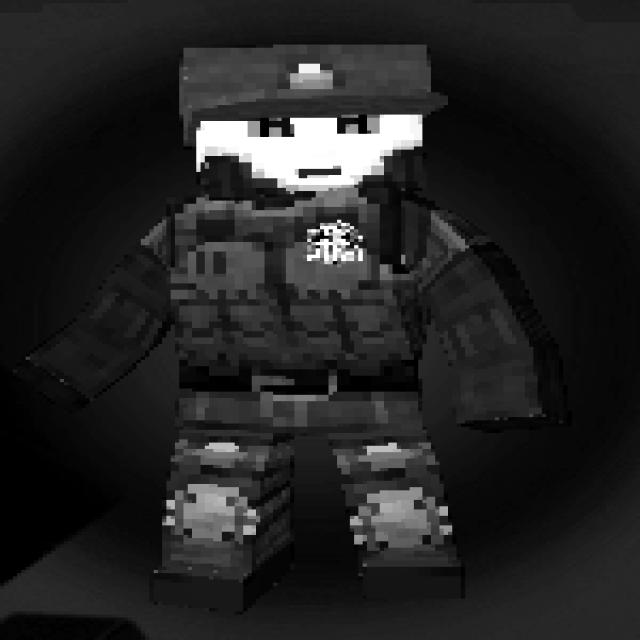Head: (180, 44, 442, 201)
Player: (8, 45, 576, 612)
